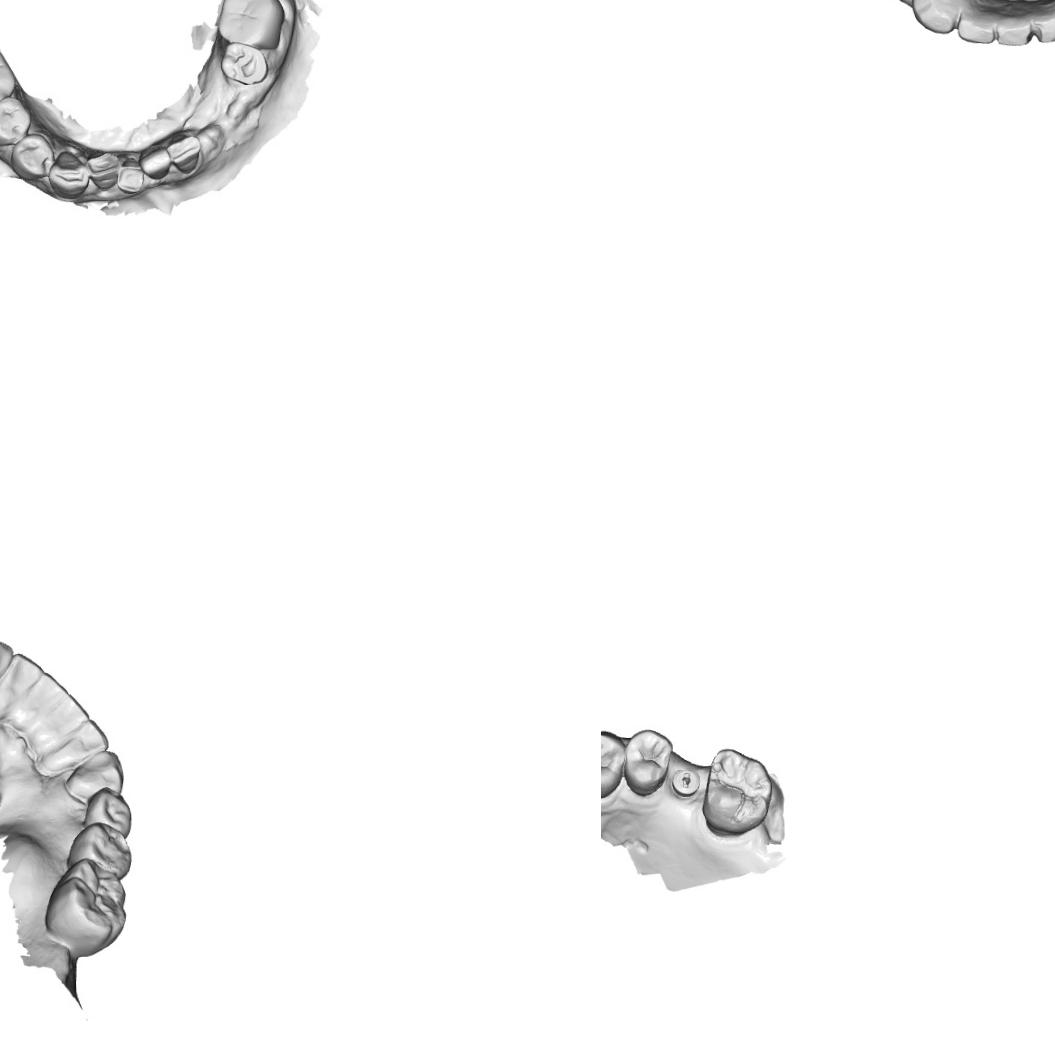canine: (60, 746, 128, 802), (46, 148, 89, 201), (910, 0, 962, 35), (0, 634, 15, 697)
implant: (669, 766, 702, 798)
incisor: (42, 691, 96, 742), (55, 717, 111, 763), (0, 649, 47, 699), (21, 670, 68, 718), (954, 0, 997, 46), (991, 0, 1033, 47), (165, 132, 202, 176), (85, 150, 121, 193), (136, 144, 173, 182), (114, 156, 146, 196), (1029, 0, 1055, 45)
molar: (40, 856, 130, 956), (698, 744, 776, 838), (213, 0, 287, 53), (0, 42, 15, 117)
premolar: (620, 726, 676, 798), (64, 821, 134, 878), (81, 786, 134, 841), (216, 39, 269, 88), (8, 130, 55, 182), (0, 92, 35, 149), (601, 729, 627, 801)
